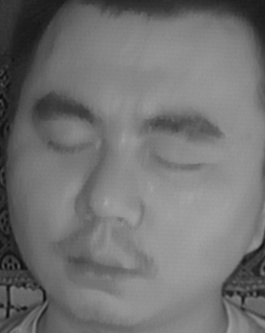blink: (149, 144, 201, 180), (44, 128, 90, 164)
mouth: (54, 236, 147, 292)
